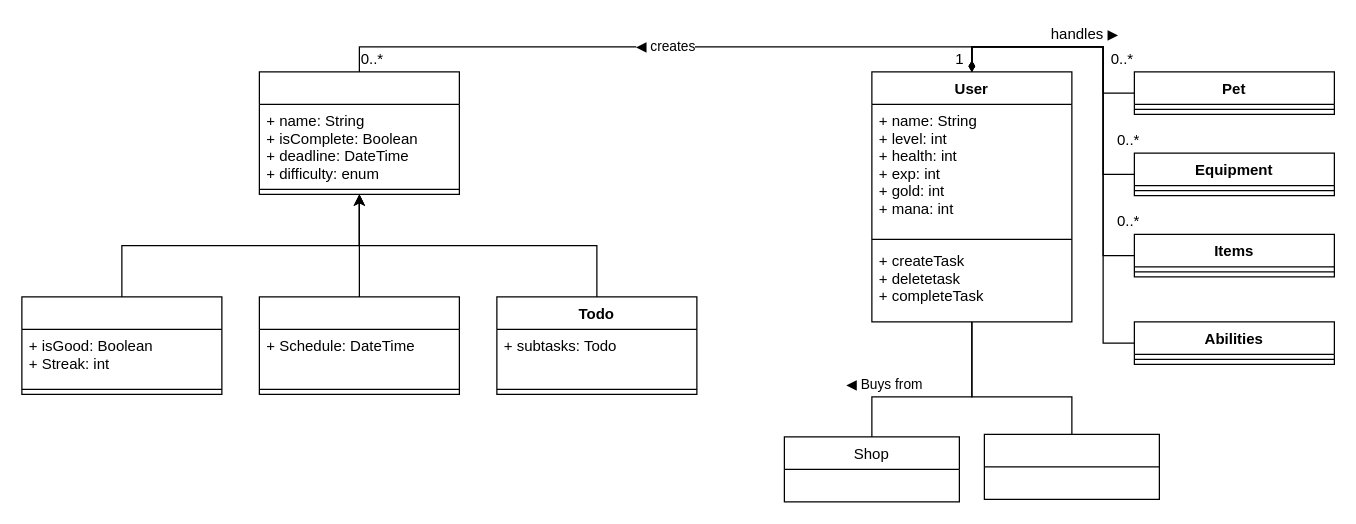
This 1356x524 diagram has some shape labels left out. Here are the shapes that lost their labels. From the top down, the box of each, then its label:
(258, 71, 459, 194): Task
(21, 296, 222, 394): Habit
(258, 296, 459, 394): Daily
(983, 433, 1159, 499): Misc
